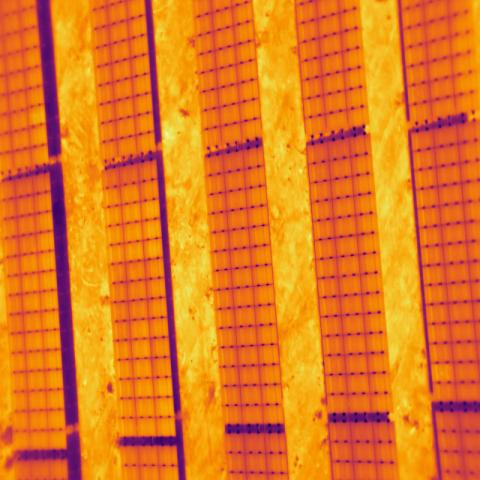fault: (26, 104, 46, 127)
